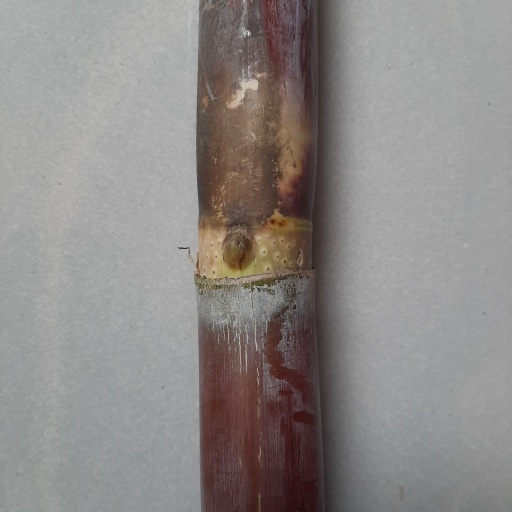Bud: (221, 231, 256, 270)
